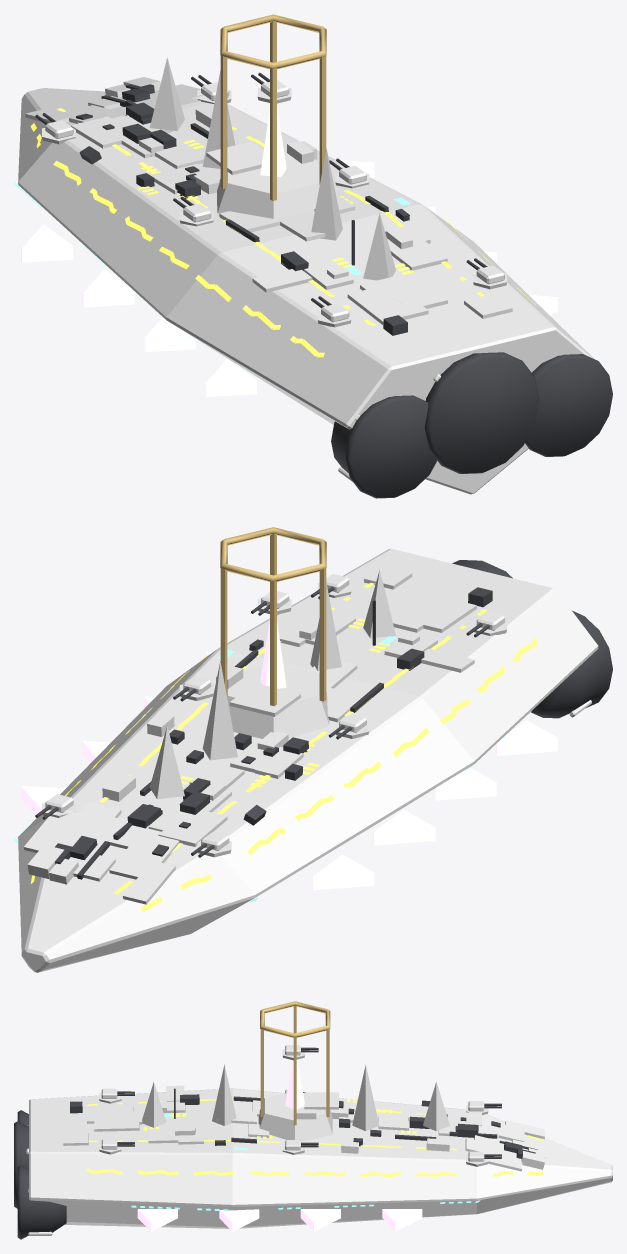
The model's file is relikvariy.glb.
3 views of the same model, one above another, from view 1: azimuth 30°, elevation 25°; view 2: azimuth 150°, elevation 25°; view 3: azimuth 270°, elevation 25° (orthographic). The views are drawn at different scales.
Parts seen in each view (by area): view 1: Корпус, Накладные_плиты, Кожух_дюзы.002, Кожух_дюзы.001, Кожух_дюзы, Механика, Основание, Разметка, Обод_клетки, Шпиль.003, Шпиль, Шип.004 (+9 smaller); view 2: Корпус, Накладные_плиты, Механика, Основание, Разметка, Кожух_дюзы.001, Обод_клетки, Шпиль.001, Шип.004, Шип.005, Шип.007, Шип.006 (+8 smaller); view 3: Корпус, Накладные_плиты, Механика, Основание, Разметка, Кожух_дюзы, Шпиль.001, Обод_клетки, Кожух_дюзы.002, Шпиль.003, Шпиль, Шип (+9 smaller).
Part boxes in pixels (left/top/right/bottom): Корпус: left=18, top=88, right=593, bottom=494; Накладные_плиты: left=25, top=77, right=512, bottom=324; Кожух_дюзы.002: left=424, top=352, right=539, bottom=473; Кожух_дюзы.001: left=331, top=395, right=437, bottom=498; Кожух_дюзы: left=525, top=354, right=612, bottom=456; Механика: left=76, top=84, right=409, bottom=335; Основание: left=217, top=152, right=319, bottom=218; Разметка: left=30, top=108, right=536, bottom=357; Обод_клетки: left=220, top=14, right=326, bottom=69; Шпиль.003: left=311, top=148, right=342, bottom=240; Шпиль: left=149, top=57, right=184, bottom=131; Шип.004: left=21, top=224, right=73, bottom=262; Корпус: left=18, top=549, right=598, bottom=972; Накладные_плиты: left=23, top=566, right=476, bottom=904; Механика: left=55, top=587, right=492, bottom=879; Основание: left=227, top=664, right=329, bottom=738; Разметка: left=30, top=582, right=537, bottom=912; Кожух_дюзы.001: left=531, top=610, right=612, bottom=718; Обод_клетки: left=220, top=527, right=326, bottom=581; Шпиль.001: left=202, top=661, right=237, bottom=760; Шип.004: left=312, top=854, right=374, bottom=890; Шип.005: left=373, top=810, right=435, bottom=845; Шип.007: left=496, top=720, right=557, bottom=755; Шип.006: left=435, top=768, right=496, bottom=800; Корпус: left=29, top=1088, right=612, bottom=1228; Накладные_плиты: left=63, top=1085, right=545, bottom=1171; Механика: left=70, top=1088, right=537, bottom=1158; Основание: left=258, top=1093, right=332, bottom=1141; Разметка: left=86, top=1098, right=543, bottom=1177; Кожух_дюзы: left=17, top=1165, right=66, bottom=1239; Шпиль.001: left=352, top=1064, right=379, bottom=1131; Обод_клетки: left=260, top=1001, right=330, bottom=1037; Кожух_дюзы.002: left=14, top=1121, right=28, bottom=1208; Шпиль.003: left=212, top=1064, right=236, bottom=1125; Шпиль: left=423, top=1082, right=449, bottom=1131; Шип: left=382, top=1209, right=422, bottom=1231.
Bounding box in the file's own units: 0.9969 × 0.8573 × 2.2.
